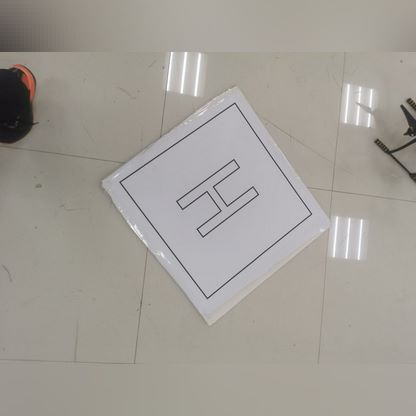H: (170, 146, 266, 242)
